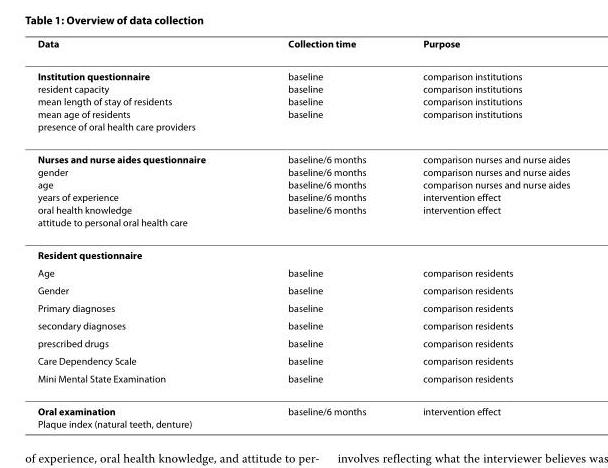table: (36, 36, 569, 429)
table column: (36, 36, 246, 429), (393, 36, 569, 429), (246, 36, 393, 429)
table column header: (36, 36, 569, 59)
table projected row header: (36, 237, 569, 263)
table row: (36, 142, 569, 237), (36, 59, 569, 142), (36, 394, 569, 429), (36, 237, 569, 263), (36, 369, 569, 394), (36, 36, 569, 59), (36, 280, 569, 298), (36, 298, 569, 316), (36, 333, 569, 351), (36, 351, 569, 369), (36, 263, 569, 280), (36, 316, 569, 333)
